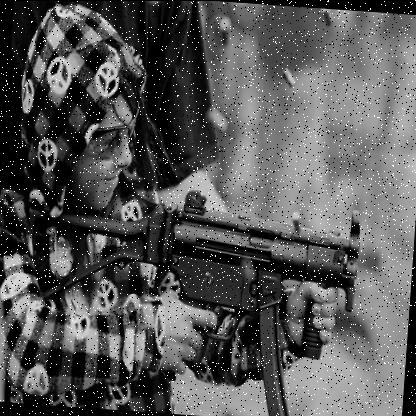rifle: (13, 174, 364, 416)
